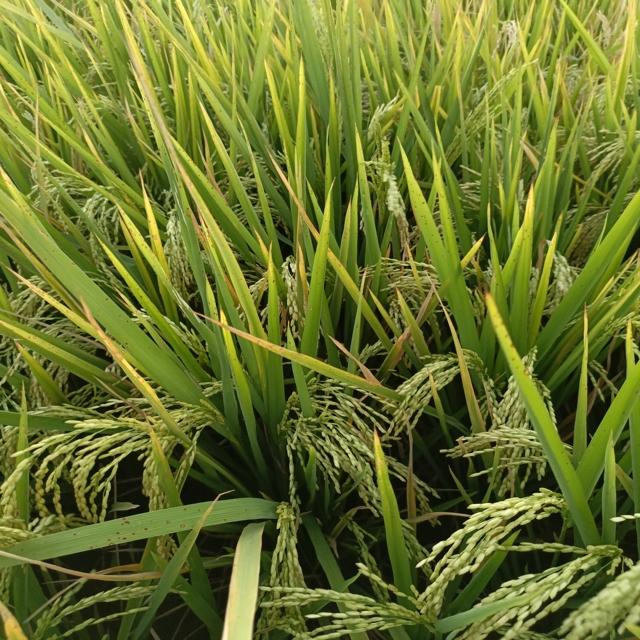Hawar Daun Bakteri: (117, 28, 207, 206), (185, 305, 308, 369), (316, 324, 386, 389), (395, 274, 442, 363), (370, 418, 396, 495), (521, 174, 546, 239)
brown spot: (34, 497, 245, 567), (477, 267, 539, 388), (100, 292, 111, 304)
